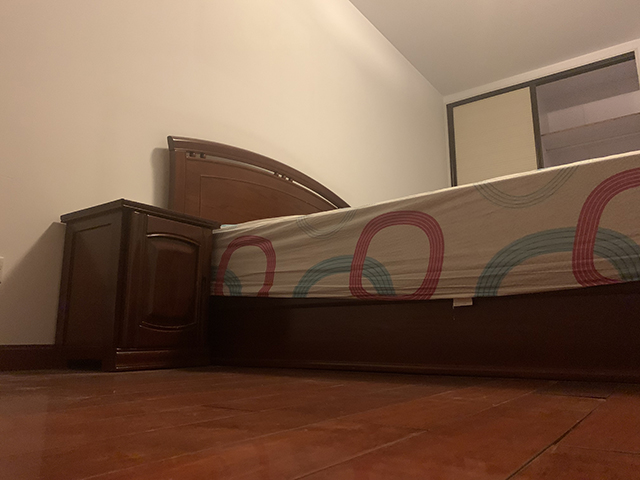bed: (164, 134, 640, 392)
cabinet: (50, 196, 221, 375)
